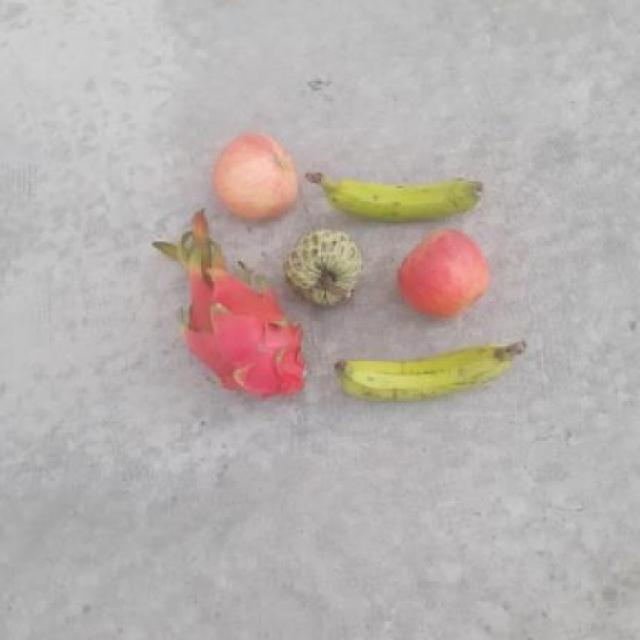apple: (393, 225, 495, 326), (208, 131, 304, 226)
banana: (334, 333, 514, 412), (312, 163, 483, 228)
dragon fruit: (181, 274, 308, 401)
sugar apple: (277, 224, 368, 311)
